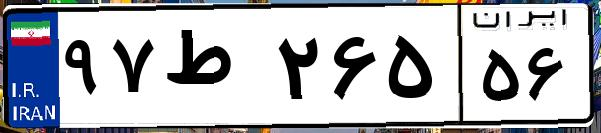2: (270, 28, 330, 110)
5: (385, 28, 445, 110), (475, 38, 525, 113)
6: (330, 28, 385, 110), (525, 38, 570, 115)
7: (110, 28, 158, 98)
9: (57, 26, 110, 100)
ط: (158, 20, 270, 120)
